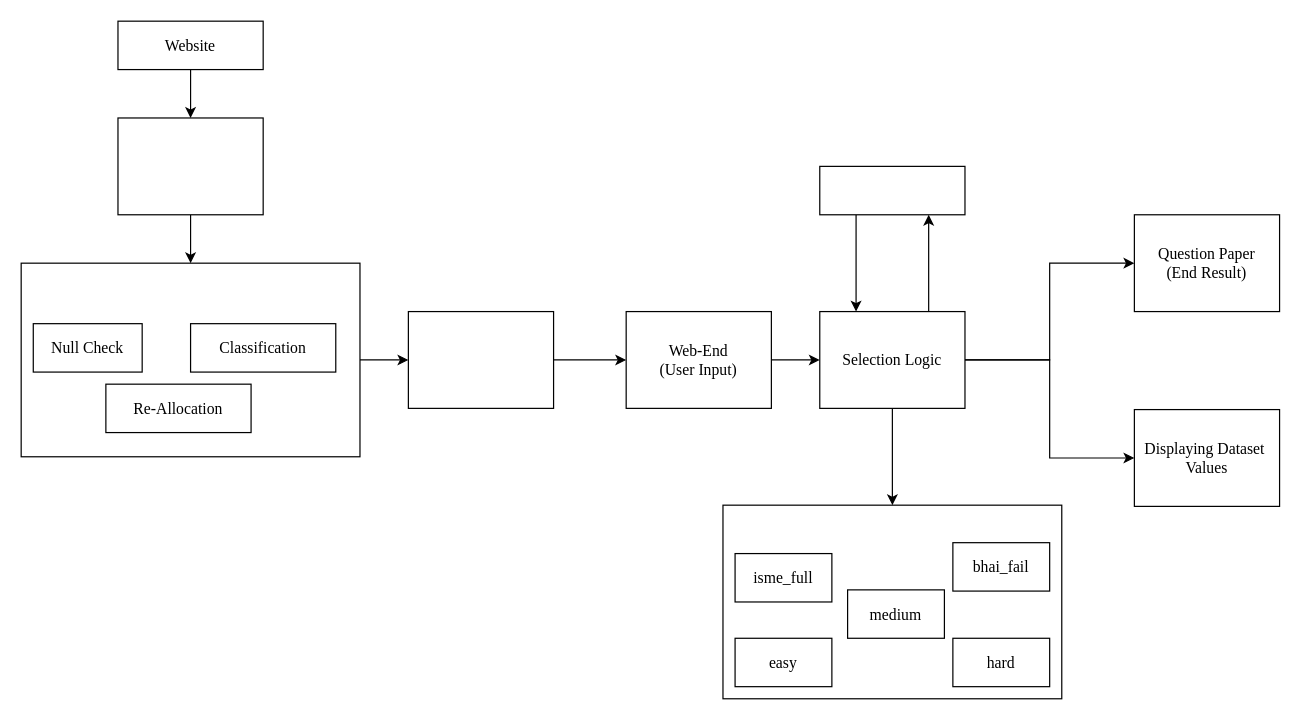
Image size: 1301x720. Some labels were removed from this diagram. The shapes that lost their labels are listed below. From the top down, each one's box as (x1, y1, x2, y2) in pixels, then its label:
(117, 117, 263, 215): Scarping Script
(819, 165, 965, 215): Data Backup Text file
(145, 264, 242, 300): Data Cleaning
(407, 310, 554, 408): CSV Dataset (Subjectwise)
(795, 506, 989, 542): Question Paper Format
